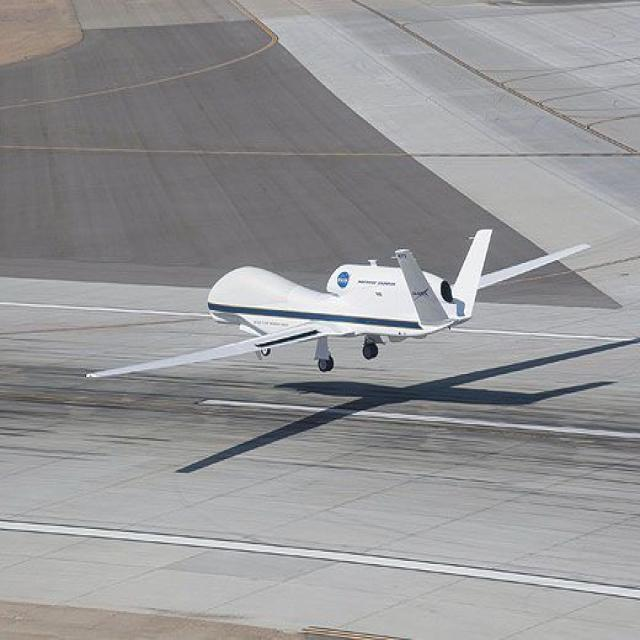MIL_Plane: (82, 228, 592, 379)
